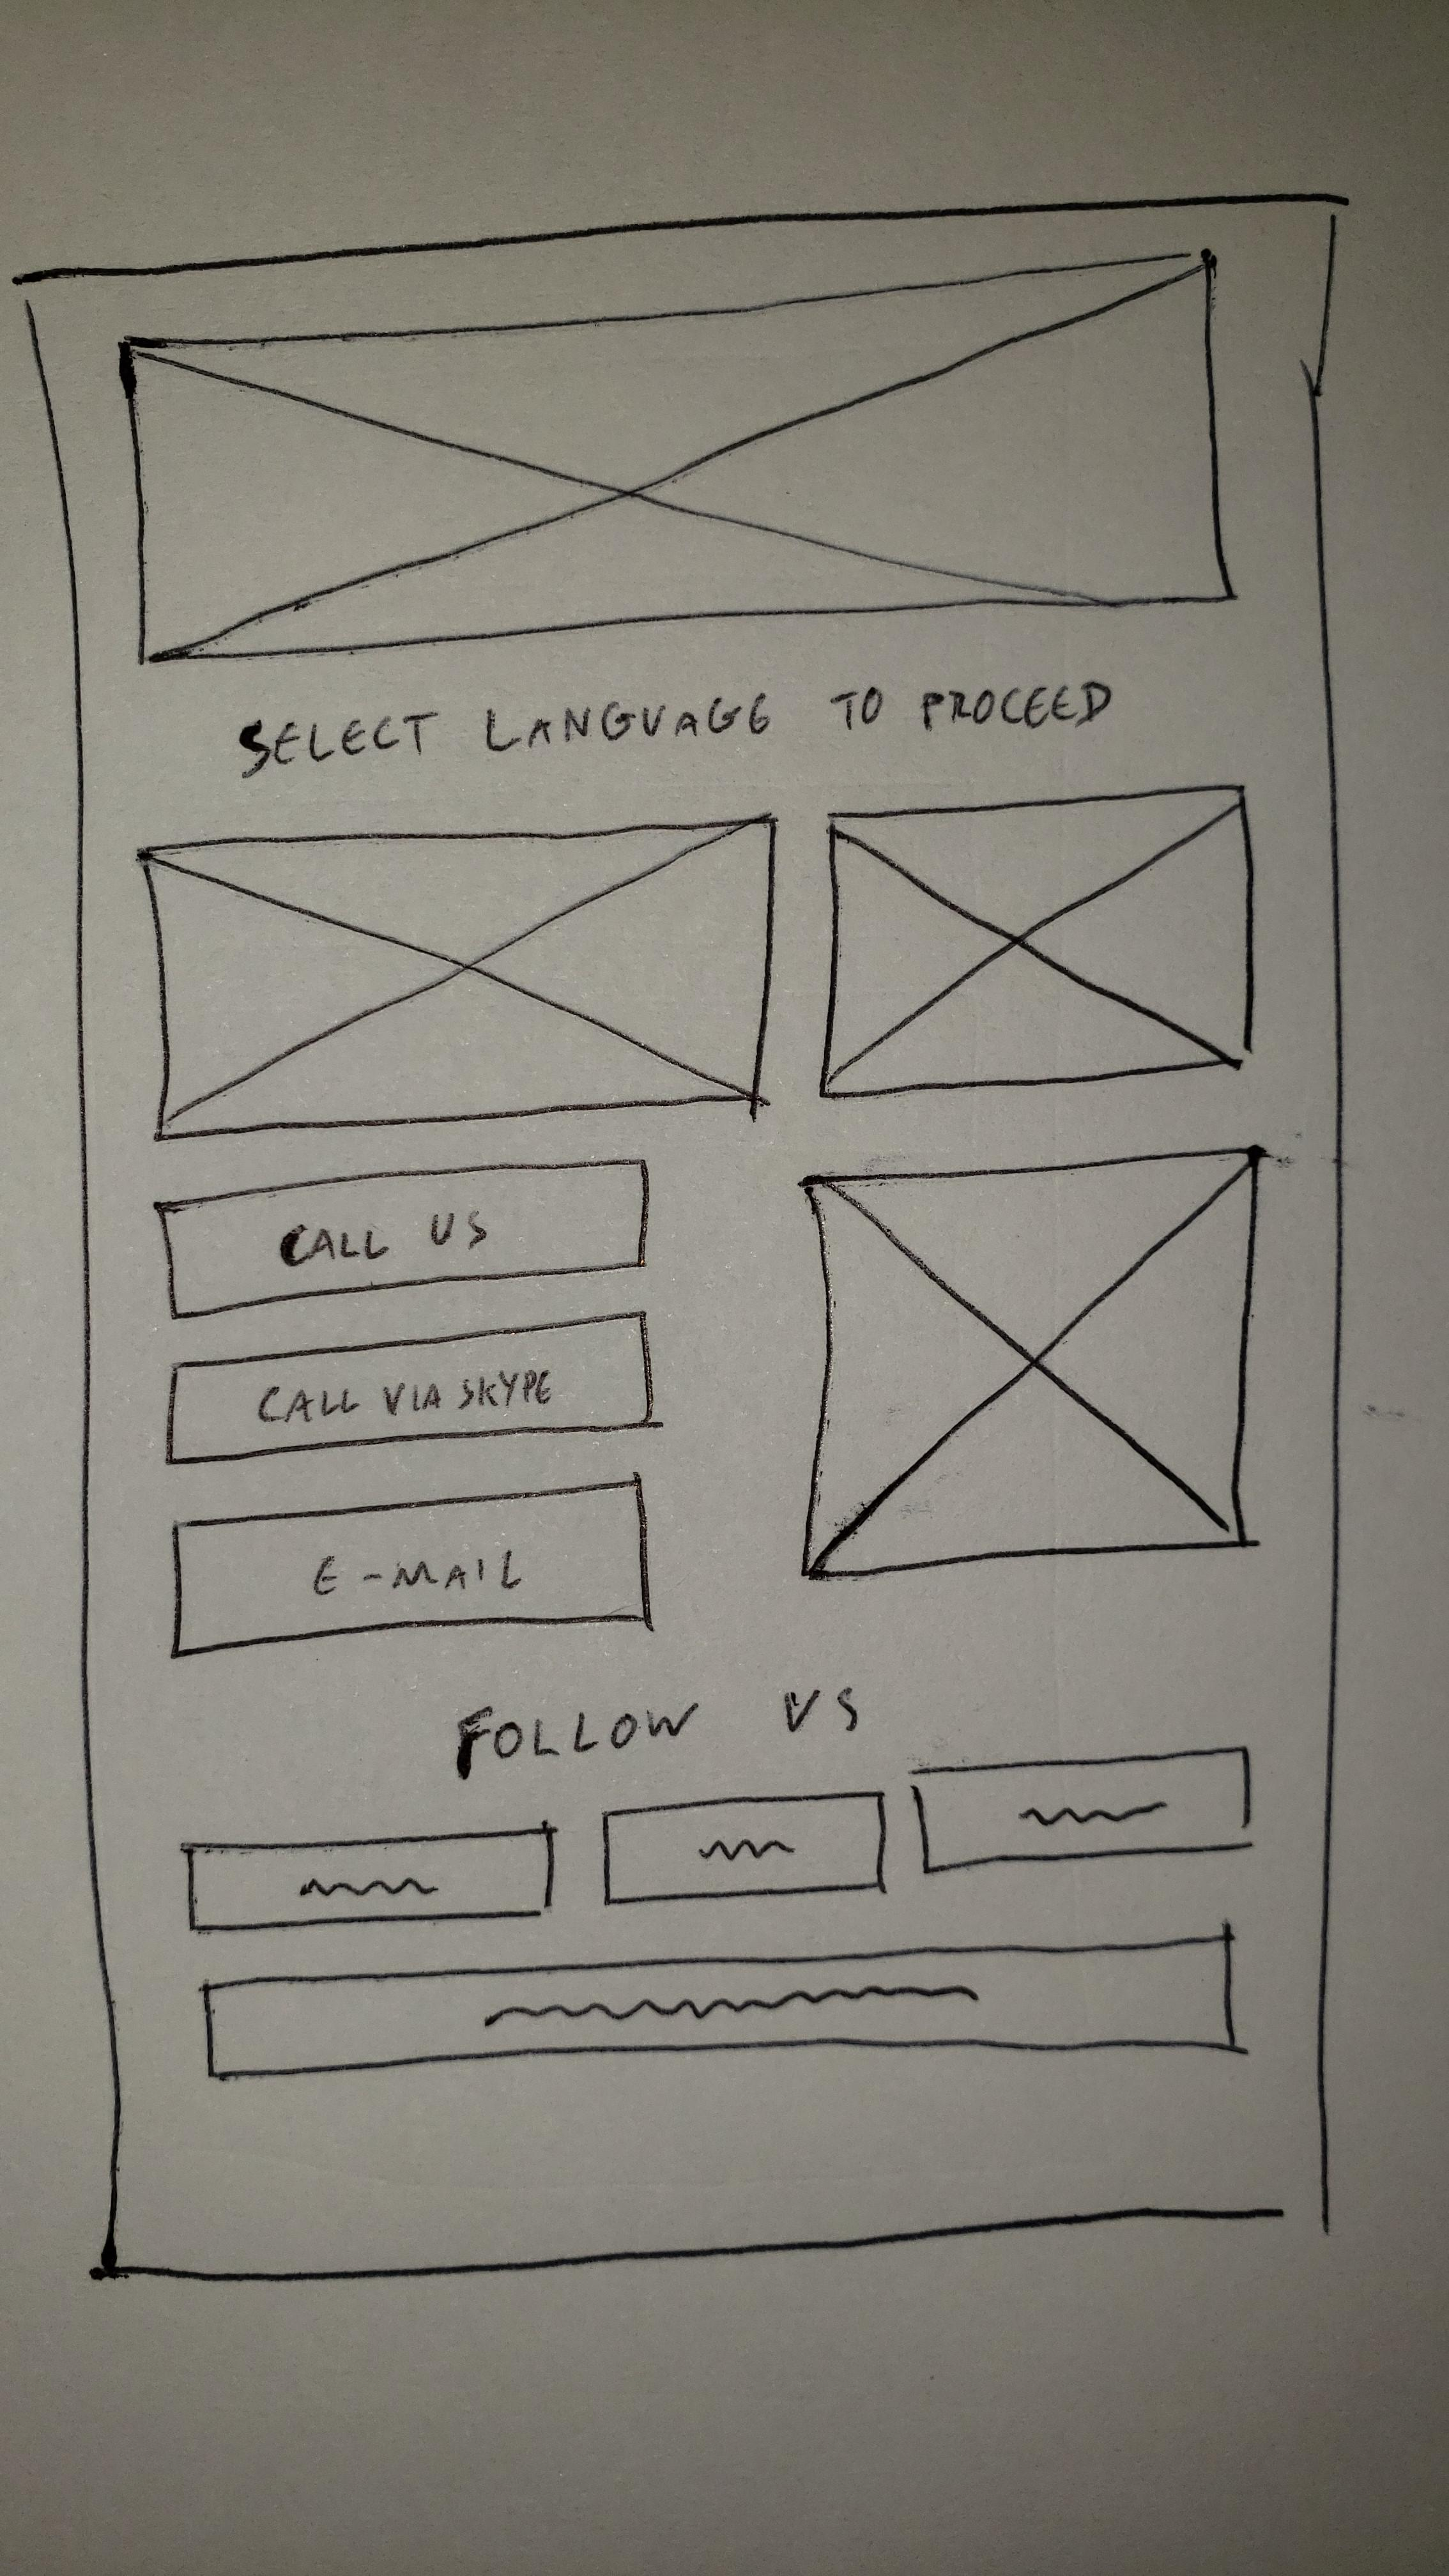Button: (203, 1936, 1237, 2081), (168, 1479, 655, 1656), (150, 1159, 646, 1315), (166, 1313, 655, 1463), (909, 1746, 1251, 1874), (182, 1826, 557, 1934), (600, 1785, 886, 1902)
Image: (126, 251, 1240, 667), (134, 817, 777, 1143), (800, 1148, 1261, 1580), (812, 786, 1256, 1102)
Label: (234, 674, 1115, 784), (446, 1681, 865, 1785)
Screen: (21, 191, 1338, 2288)
